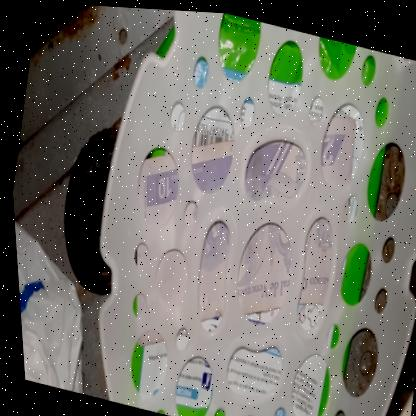ten-back-vef: (86, 61, 376, 392)
